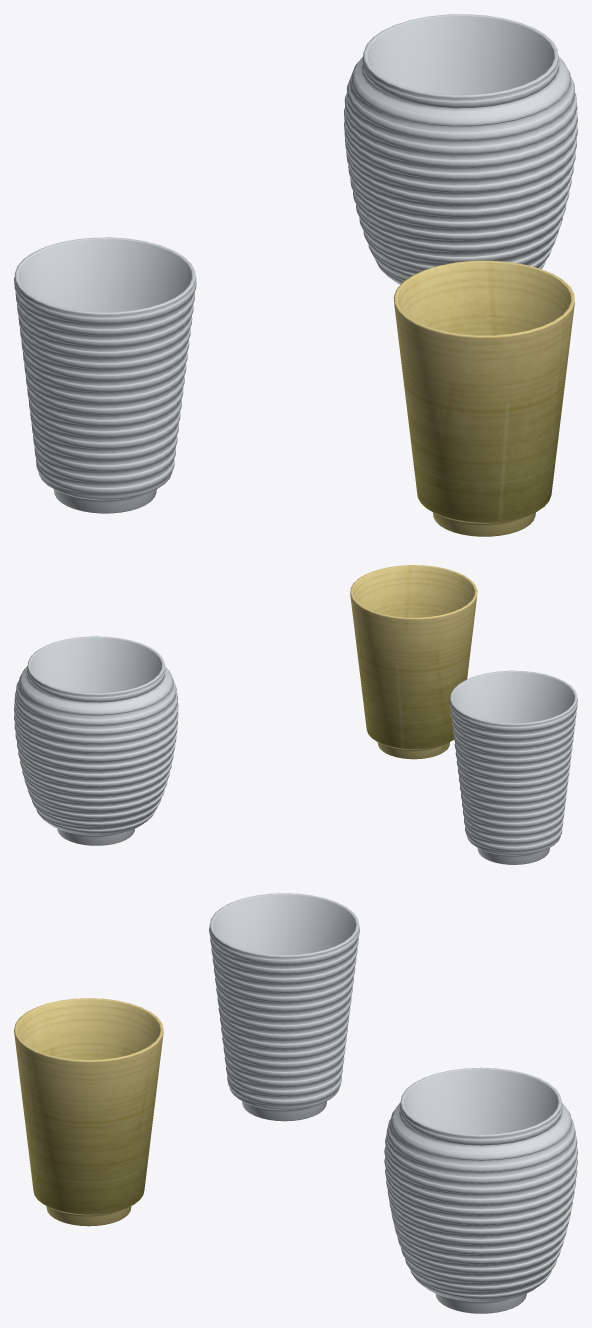
Rendered from complements4.glb.
3 views of the same model, one above another, from view 1: azimuth 30°, elevation 25°; view 2: azimuth 150°, elevation 25°; view 3: azimuth 270°, elevation 25° (orthographic). The views are drawn at different scales.
Parts seen in each view (by area): view 1: vase3_Mesh.001, vase2_Mesh, vase_Mesh.002; view 2: vase3_Mesh.001, vase2_Mesh, vase_Mesh.002; view 3: vase3_Mesh.001, vase2_Mesh, vase_Mesh.002.
Boxes of the visible parts, left/top/right/bottom form: vase3_Mesh.001: left=344, top=14, right=577, bottom=284; vase2_Mesh: left=14, top=237, right=196, bottom=513; vase_Mesh.002: left=393, top=260, right=574, bottom=536; vase3_Mesh.001: left=14, top=636, right=178, bottom=845; vase2_Mesh: left=449, top=670, right=577, bottom=864; vase_Mesh.002: left=350, top=565, right=477, bottom=759; vase3_Mesh.001: left=384, top=1067, right=577, bottom=1313; vase2_Mesh: left=209, top=893, right=359, bottom=1121; vase_Mesh.002: left=14, top=998, right=163, bottom=1226.
Size of the model in its own units: 6.01 by 2.05 by 5.43.
Materials: 3 (2 with a texture image).
